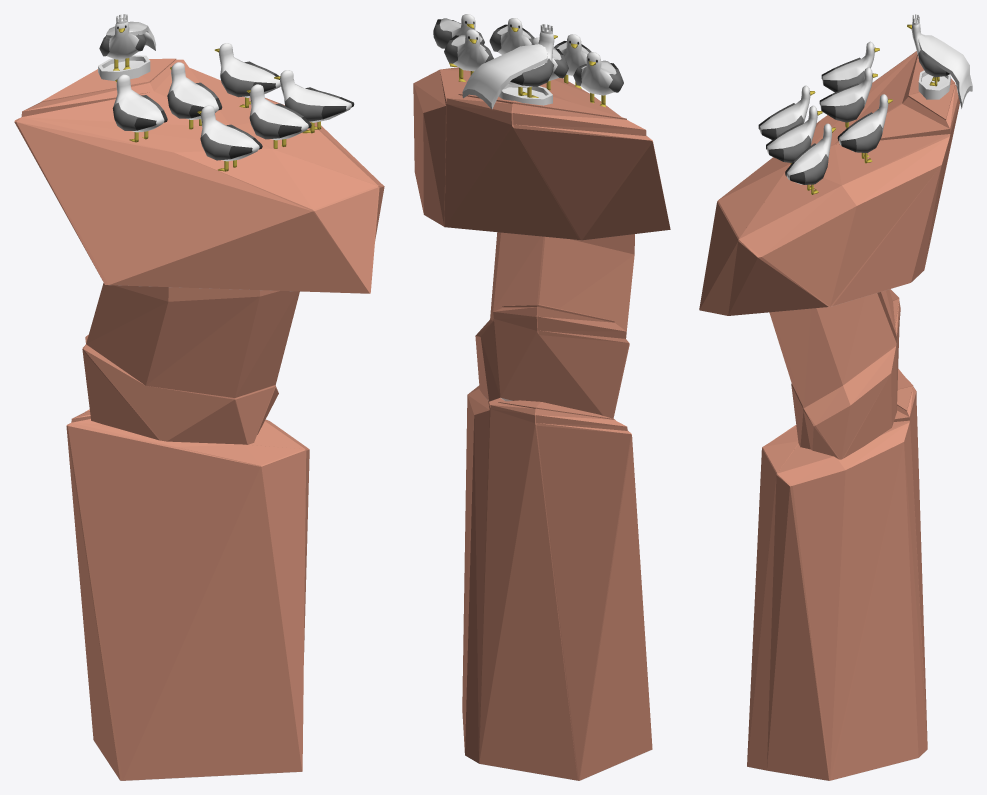
File: Large seagull rock.fbx
3 renders of one model, left to right at view 1: azimuth 30°, elevation 25°; view 2: azimuth 150°, elevation 25°; view 3: azimuth 270°, elevation 25°, orthographic. The views are drawn at different scales.
Parts seen in each view (by area): view 1: Rock 006; view 2: Rock 006; view 3: Rock 006.
Part boxes in pixels (x1,y1,x2,y2): Rock 006: (14,14,384,780); Rock 006: (413,14,670,780); Rock 006: (699,14,972,780).
Size of the model in its own units: 24.81 by 59.23 by 20.85.
